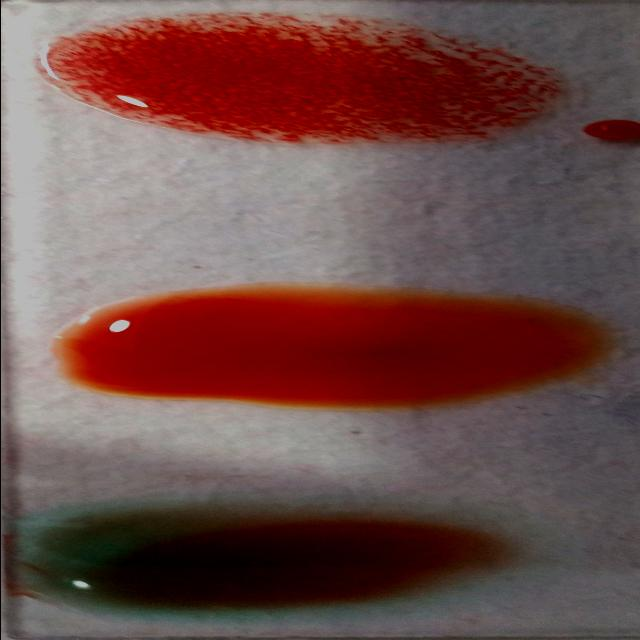D: (36, 14, 558, 146)
